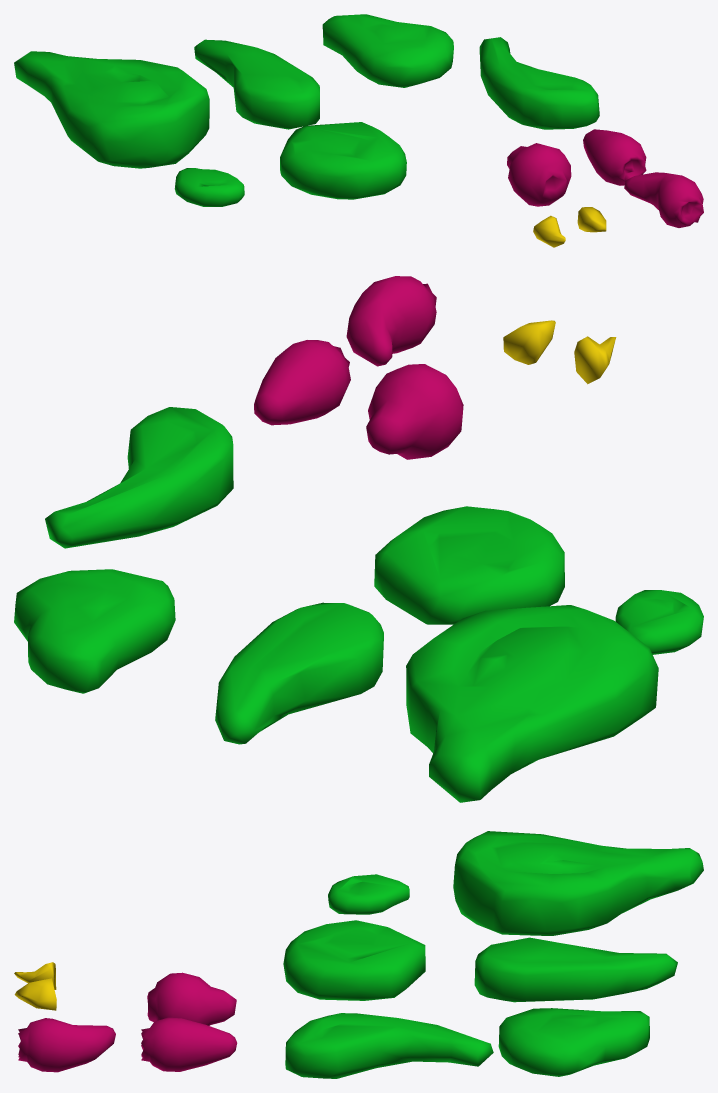
3 views of the same model, one above another, from view 1: azimuth 30°, elevation 25°; view 2: azimuth 150°, elevation 25°; view 3: azimuth 270°, elevation 25° (orthographic). The views are drawn at different scales.
Parts seen in each view (by area): view 1: low; view 2: low; view 3: low.
Part boxes in pixels (<box>): low: <box>14,14,703,247</box>; low: <box>14,276,703,802</box>; low: <box>14,831,703,1078</box>.
Size of the model in its own units: 3.22 by 0.4599 by 4.26.
